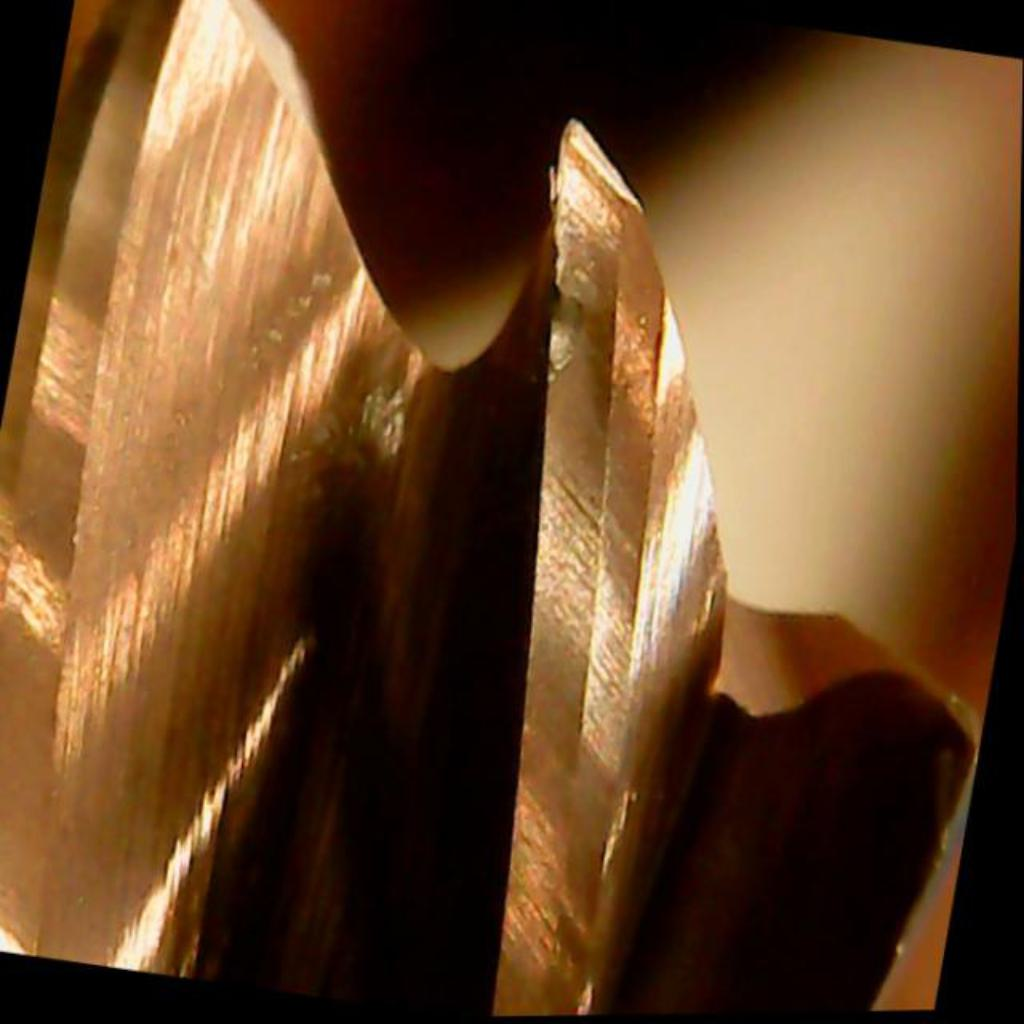Tool-wear-class-1: (452, 101, 787, 670)
